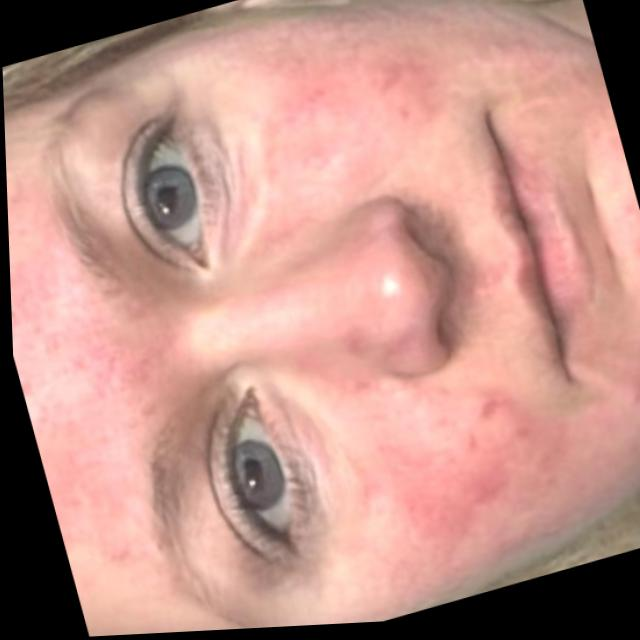Rosacea: (8, 220, 194, 586), (210, 36, 476, 254), (348, 367, 586, 607)
